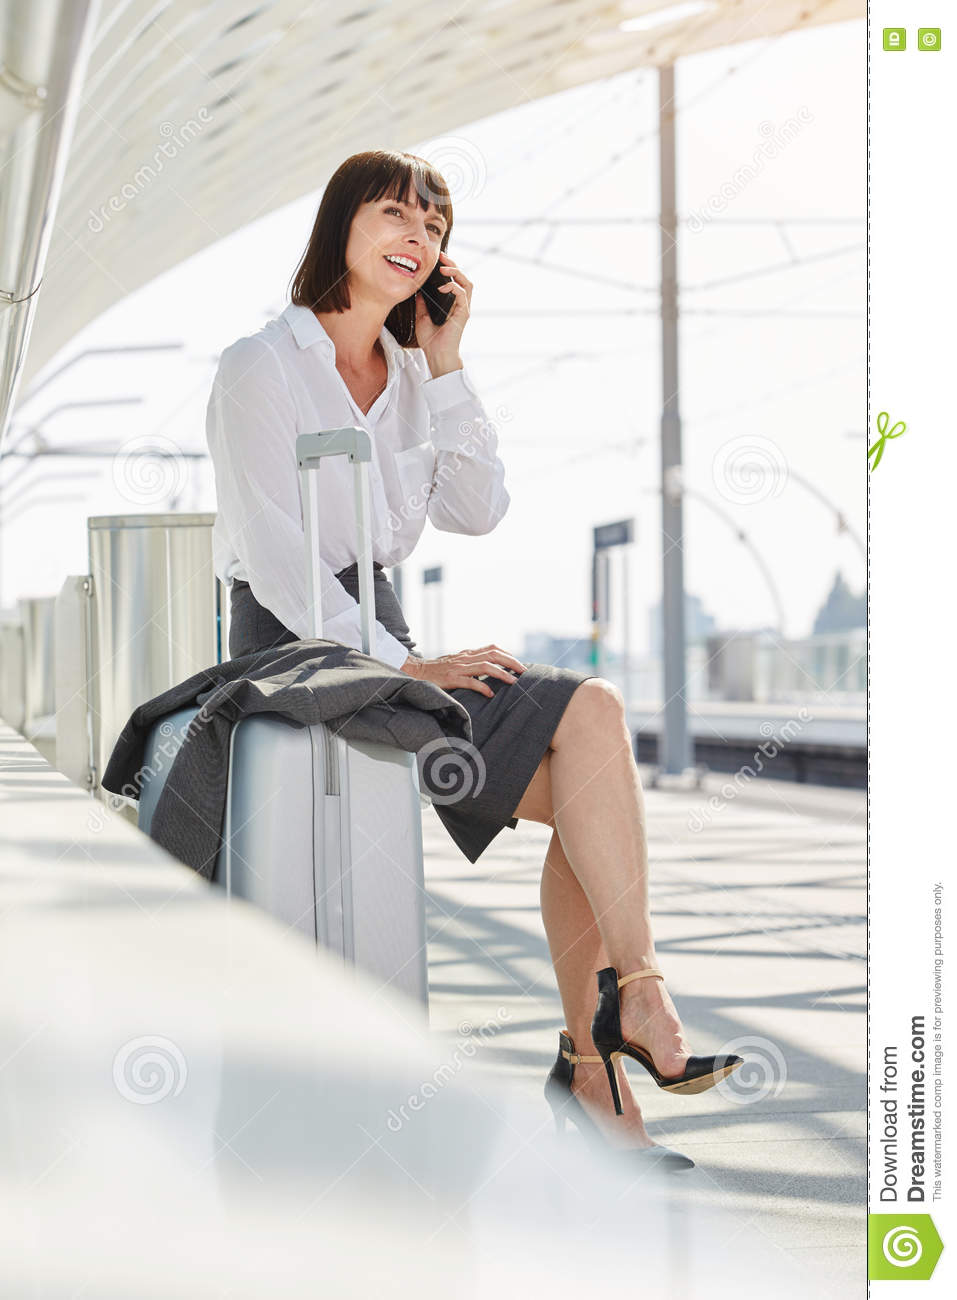phone: (422, 256, 459, 326)
talk: (375, 193, 473, 372)
